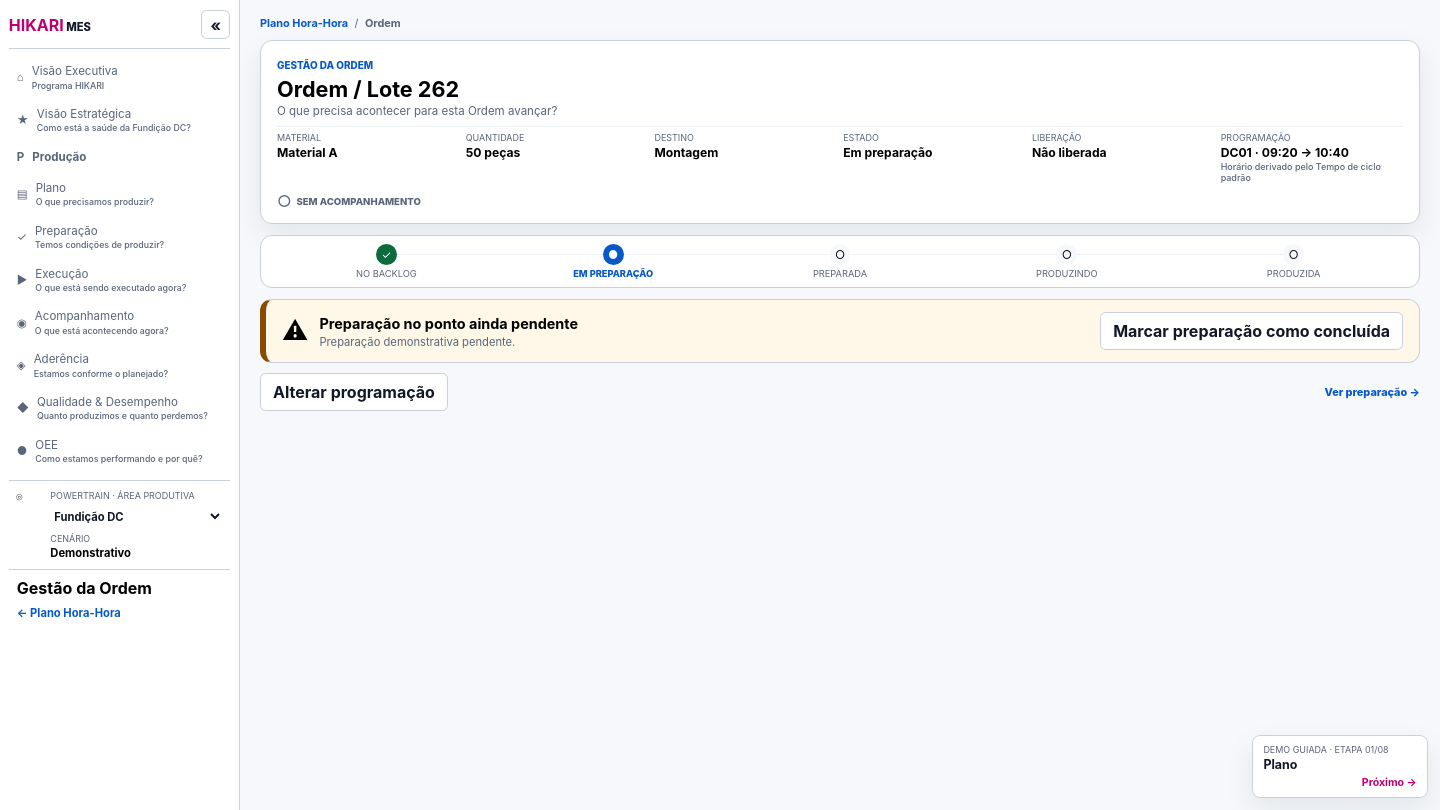
Test case: Cena F: postpones Lote 262 to Turno 3 without starting execution
Step 1. Click the button "Alterar programação" → (354, 392), box left=260, top=373, right=448, bottom=411
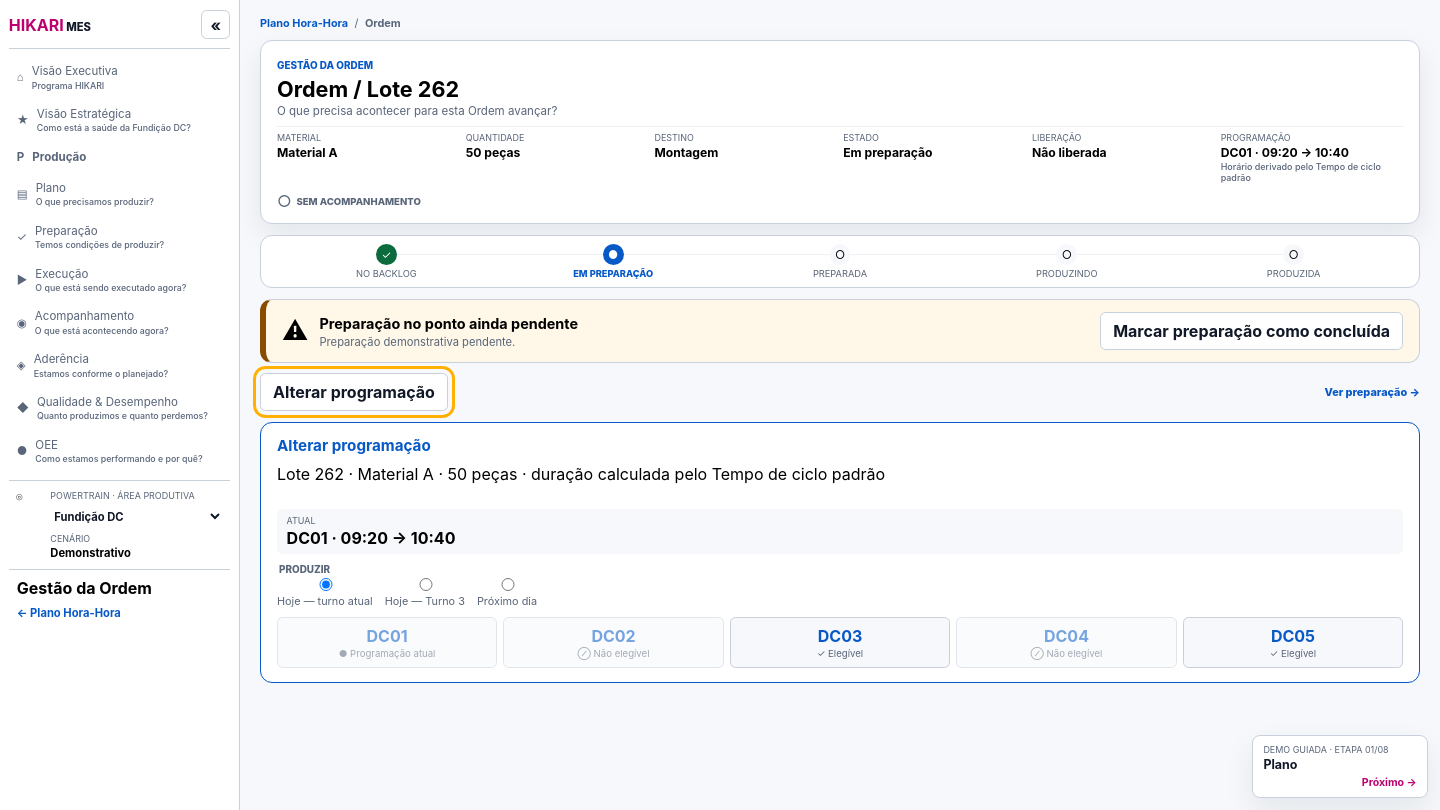
Step 2. Click the radio button labelled "Hoje — Turno 3" → (426, 584), box left=390, top=578, right=462, bottom=591
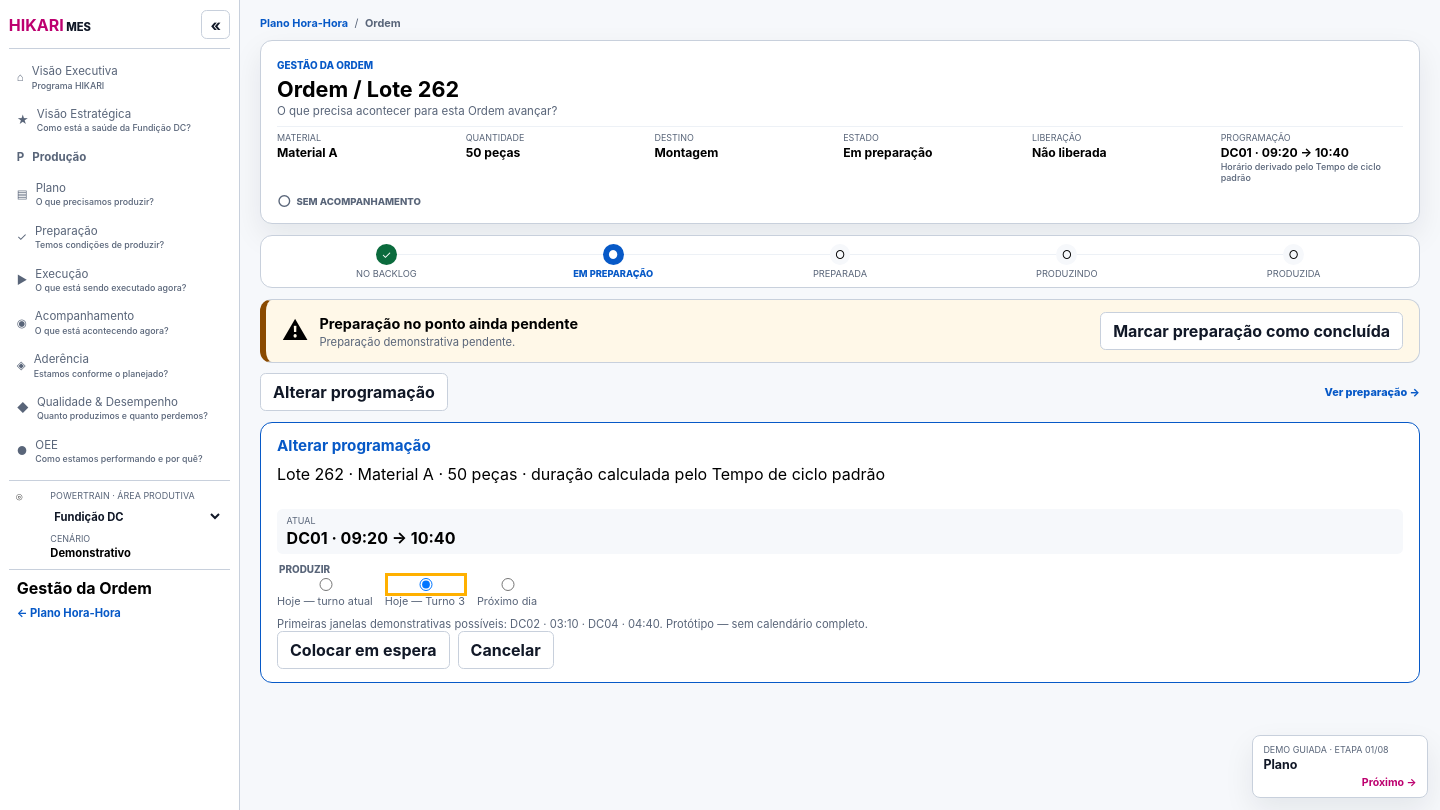
Step 3. Click the button "Colocar em espera" → (363, 650), box left=277, top=631, right=450, bottom=669
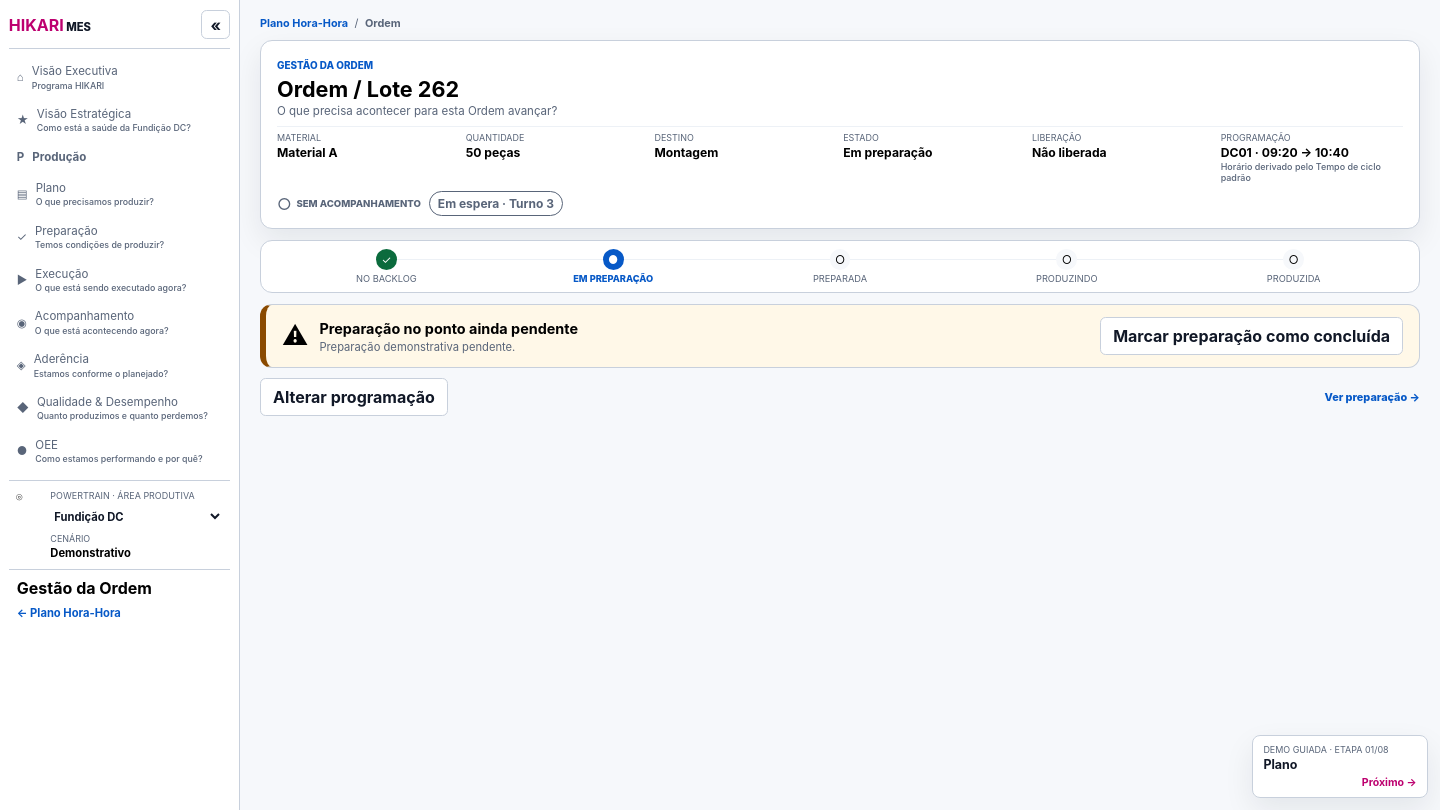
Now the text "Em espera · Turno 3" is shown, box left=429, top=191, right=563, bottom=216
